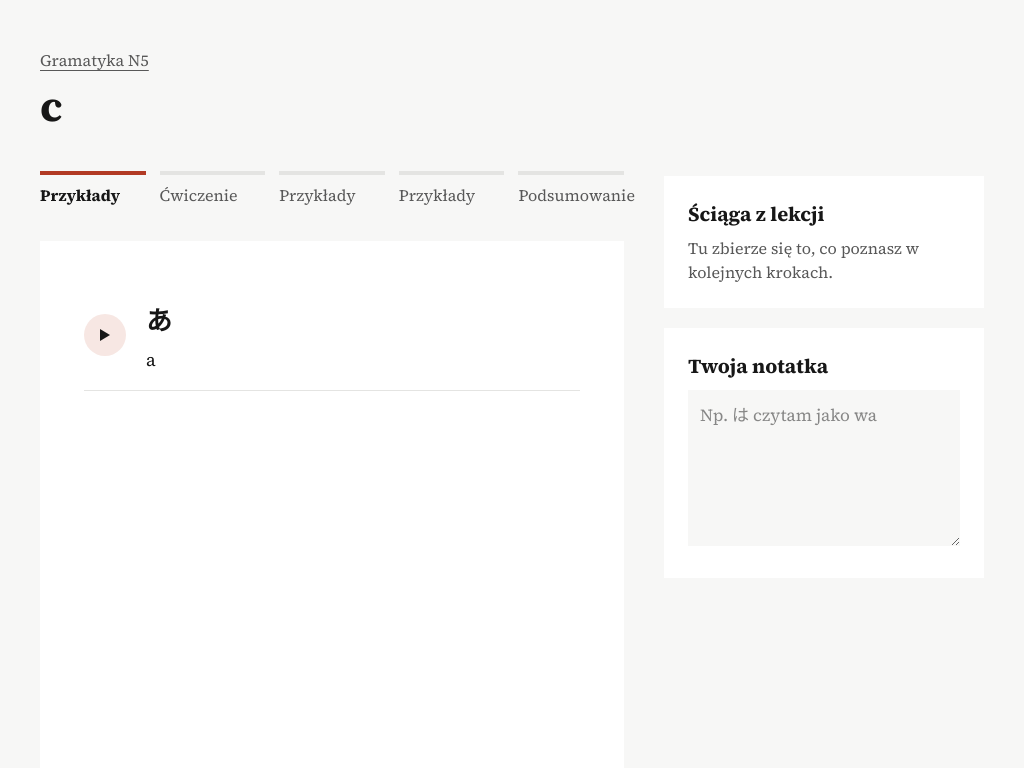
Test case: lesson fixes from the final review › a lesson cannot jump ahead of the steps reached so far
The width and height of the screenshot is (1024, 768).
Click the tab with aria-label "Krok 5": (571,188) x1=518 y1=160 x2=624 y2=216
(page scrolled)
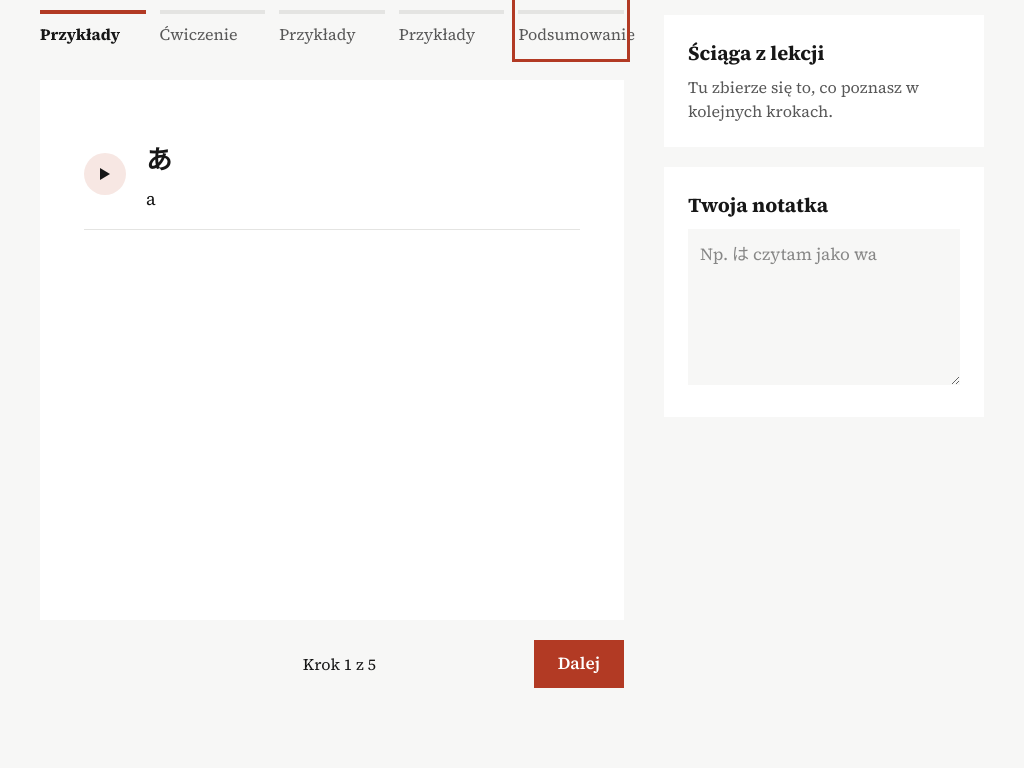
expect the text "Krok 1 z 5" is shown: met, box x1=303 y1=652 x2=376 y2=676
Click the button "Dalej": (579,664) x1=534 y1=640 x2=624 y2=688
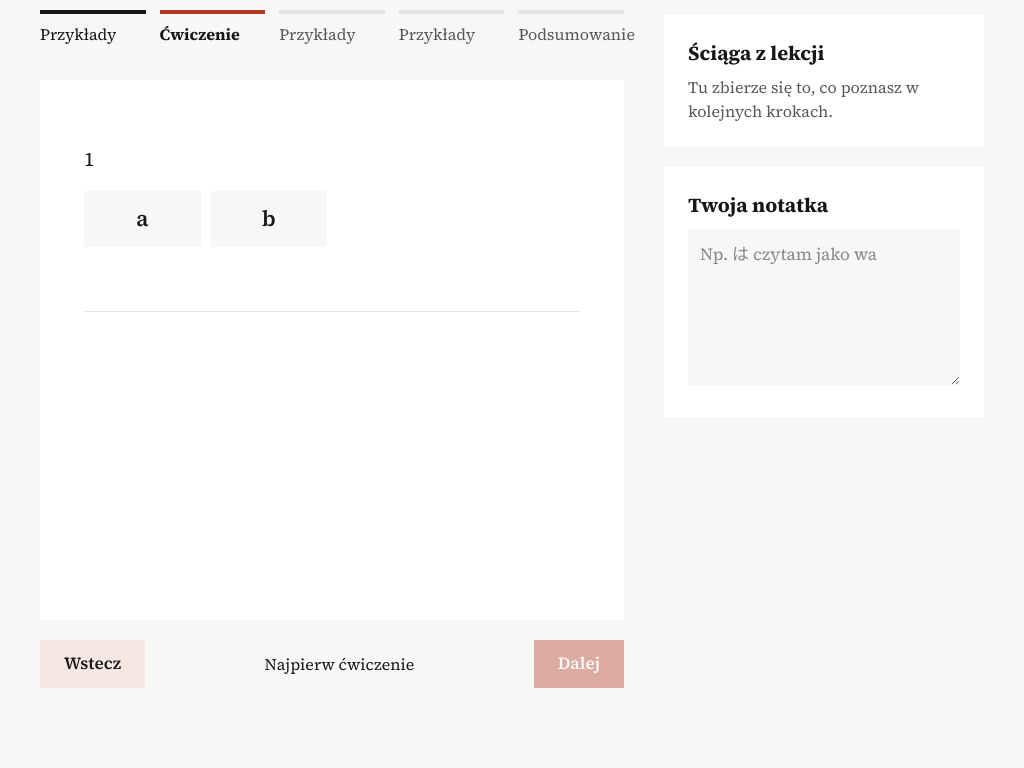
expect the button "Dalej" is disabled: met, box x1=534 y1=640 x2=624 y2=688
Click the button "b": (269,218) x1=210 y1=190 x2=327 y2=246
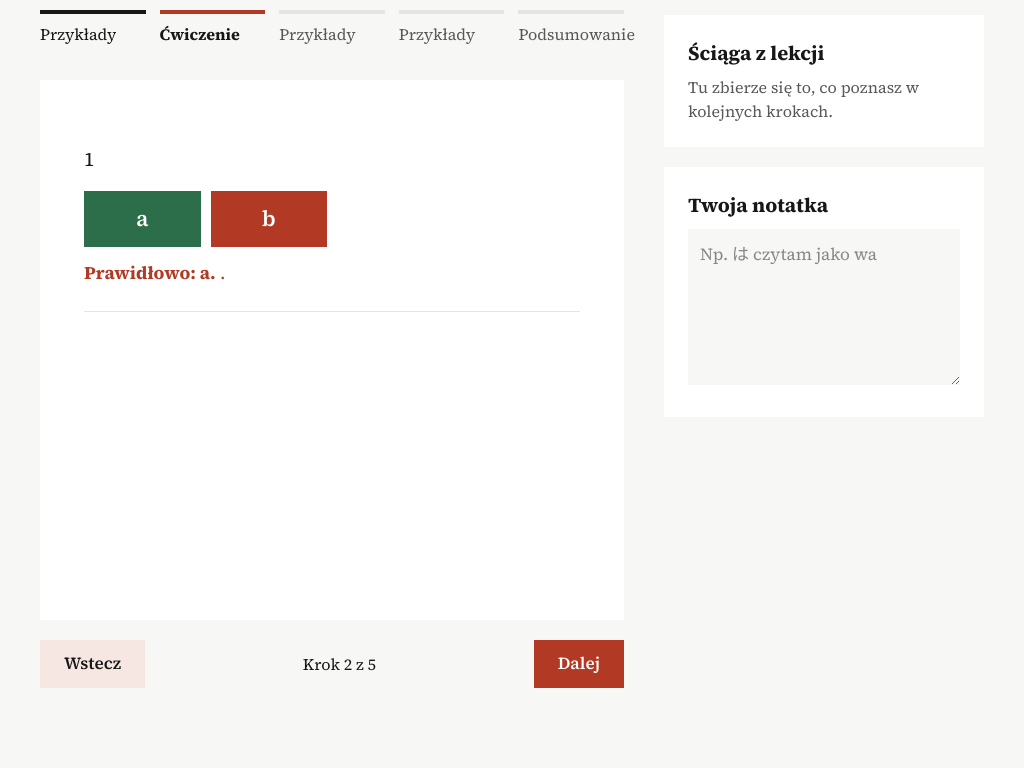
expect the button "Dalej" is enabled: met, box x1=534 y1=640 x2=624 y2=688
